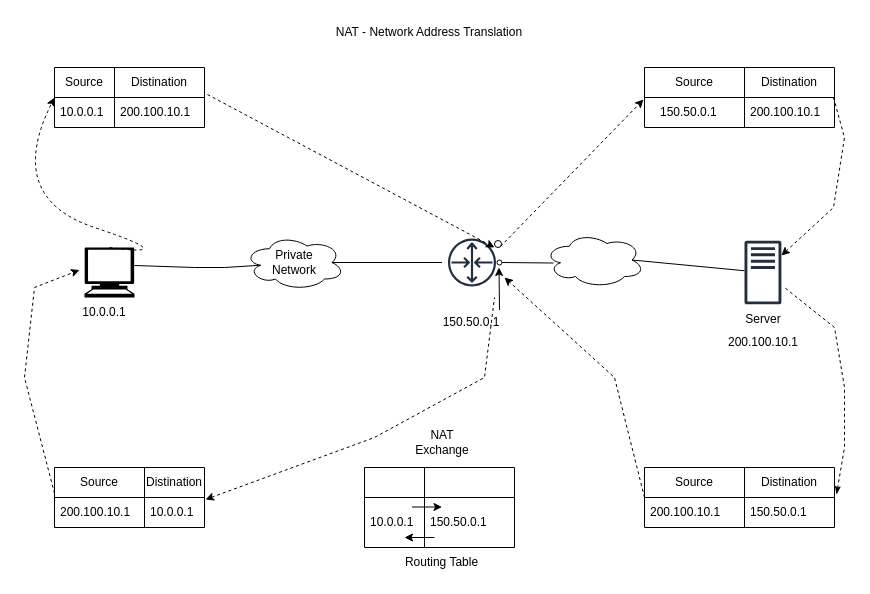
This 870x594 diagram has some shape labels left out. The shapes that lost their labels are listed below. From the top down, each one's box as (x1, y1, x2, y2) in pixels, then its label:
(84, 247, 134, 297): PC
(441, 232, 502, 292): Router
(544, 232, 644, 288): Internet
